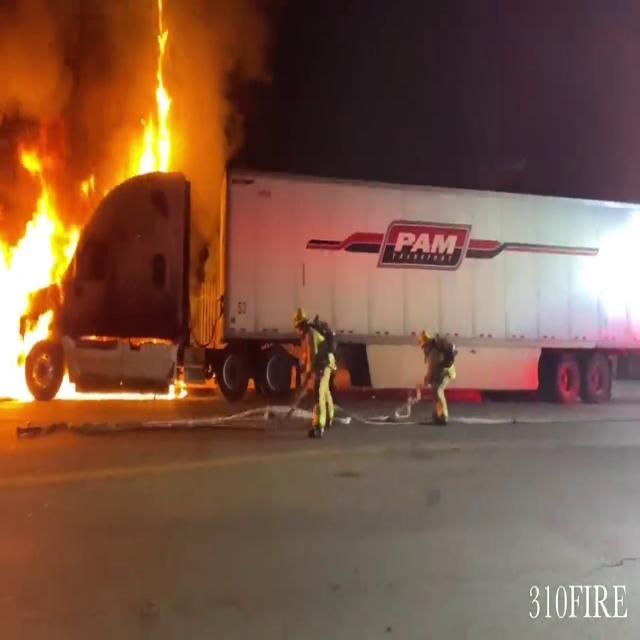Fire: (0, 155, 86, 409), (126, 10, 186, 188)
Smoke: (0, 0, 137, 174)
